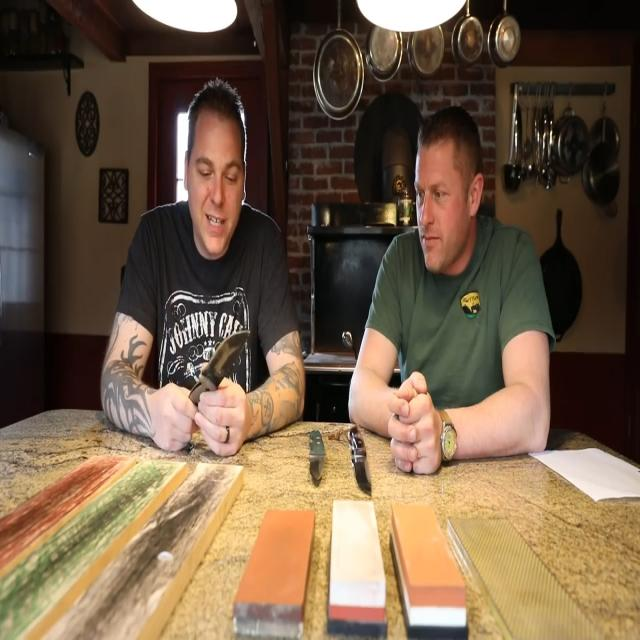knife: (199, 329, 251, 401), (349, 418, 377, 509), (307, 427, 330, 493)
